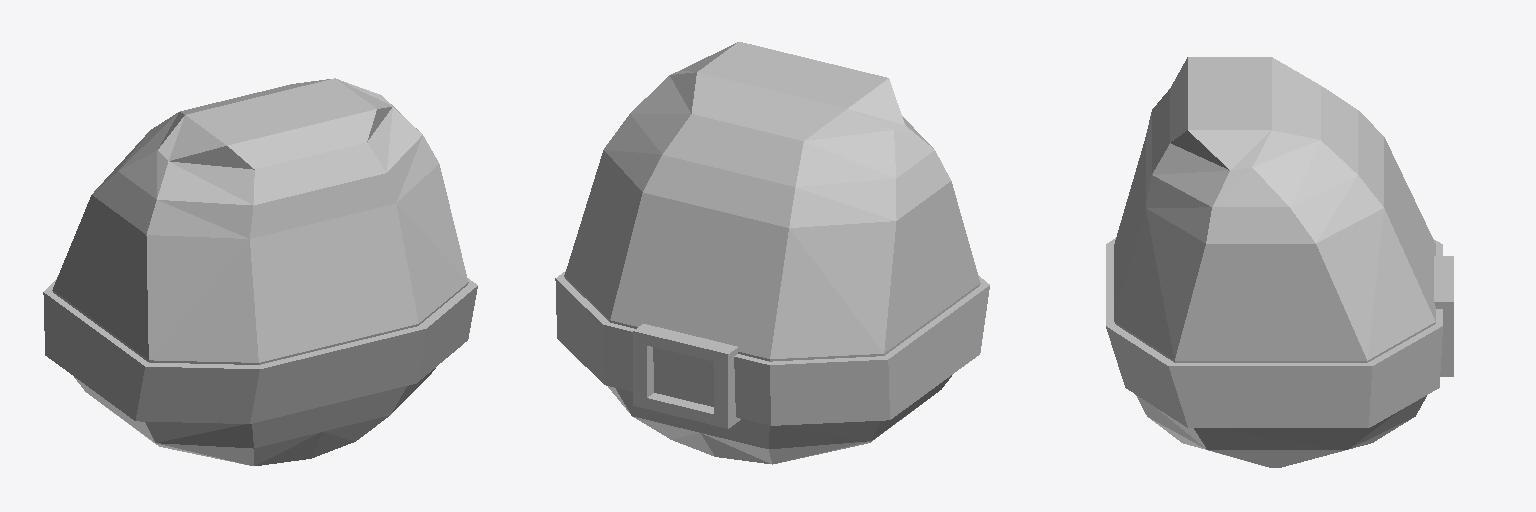
Rendered from Knight_chest.obj.
3 views of the same model, side by side, from view 1: azimuth 30°, elevation 25°; view 2: azimuth 150°, elevation 25°; view 3: azimuth 270°, elevation 25° (orthographic).
Visible parts, largest first — view 1: 胴_立方体.004; view 2: 胴_立方体.004; view 3: 胴_立方体.004.
Boxes of the visible parts, x1,y1,x2,y2 form: 胴_立方体.004: [43, 78, 477, 465]; 胴_立方体.004: [555, 42, 989, 464]; 胴_立方体.004: [1106, 57, 1453, 467].
Bounding box in the file's own units: 2.09 × 1.95 × 1.9.